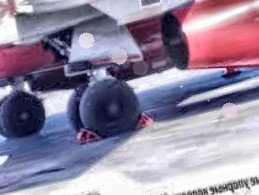chock: (70, 123, 101, 146), (128, 109, 157, 131)
wheel: (71, 71, 147, 144), (0, 85, 55, 146)
